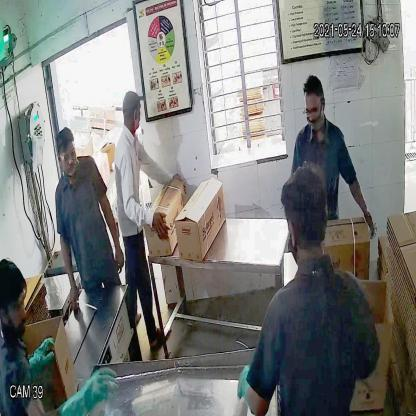goggles: (56, 145, 78, 164)
